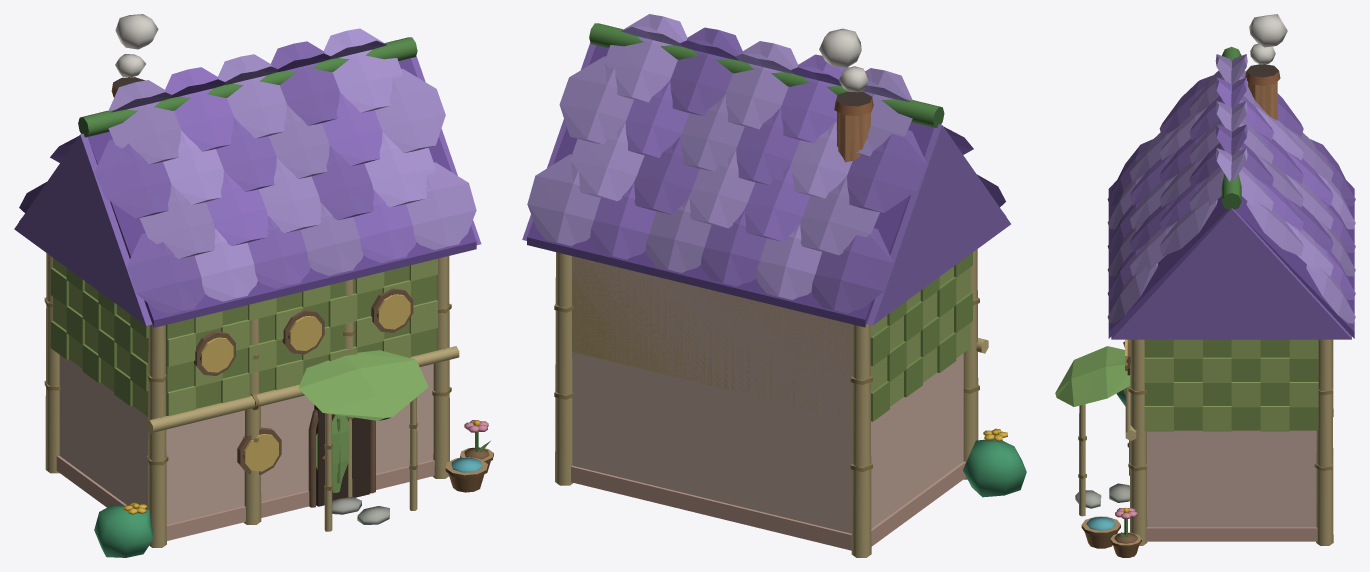
Rendered from house_timber_b.glb.
3 views of the same model, side by side, from view 1: azimuth 30°, elevation 25°; view 2: azimuth 150°, elevation 25°; view 3: azimuth 270°, elevation 25° (orthographic). The views are drawn at different scales.
Visible parts, largest first — view 1: body_nl, body, body__far; view 2: body, body_nl, body__far; view 3: body_nl, body, body__far.
Boxes of the visible parts, x1,y1,x2,y2 form: body_nl: [19, 14, 488, 557]; body: [44, 77, 493, 547]; body__far: [14, 56, 481, 523]; body: [554, 91, 988, 557]; body_nl: [527, 14, 1026, 497]; body__far: [522, 43, 1010, 532]; body_nl: [1055, 14, 1355, 518]; body: [1075, 64, 1333, 557]; body__far: [1111, 82, 1351, 527].
Bounding box in the file's own units: 3.24 × 3.81 × 2.42.
